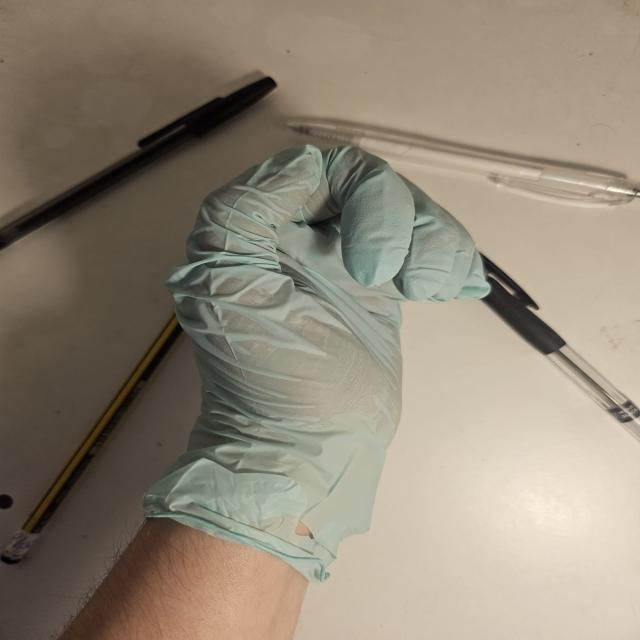gloves_damaged: (138, 138, 495, 576)
